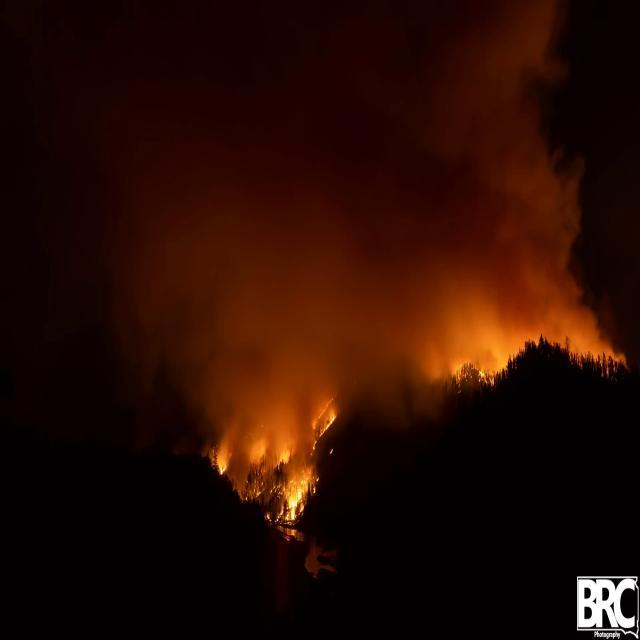Fire: (553, 296, 632, 368), (266, 467, 320, 523), (309, 396, 336, 453), (453, 359, 494, 390), (211, 446, 229, 476), (244, 470, 259, 500)
Smoke: (104, 254, 172, 443)
